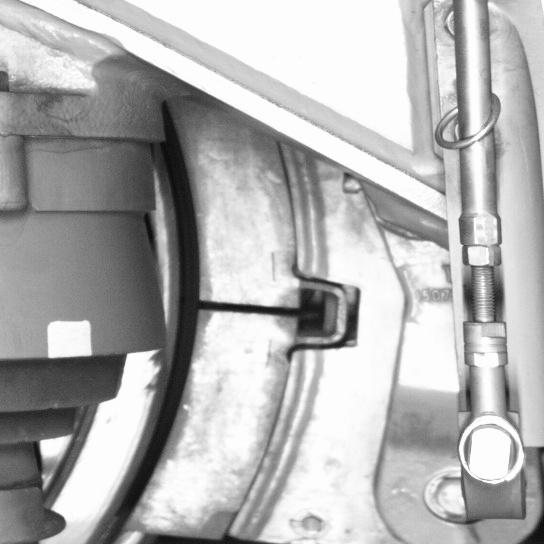KnifeSwitch: (81, 138, 328, 542)
